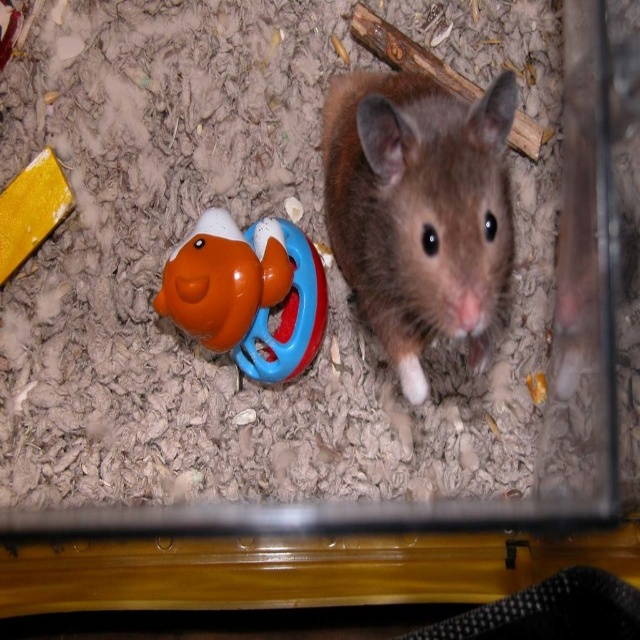Mouse: (316, 67, 521, 406)
